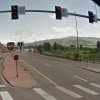crosswalk: (0, 82, 99, 100)
